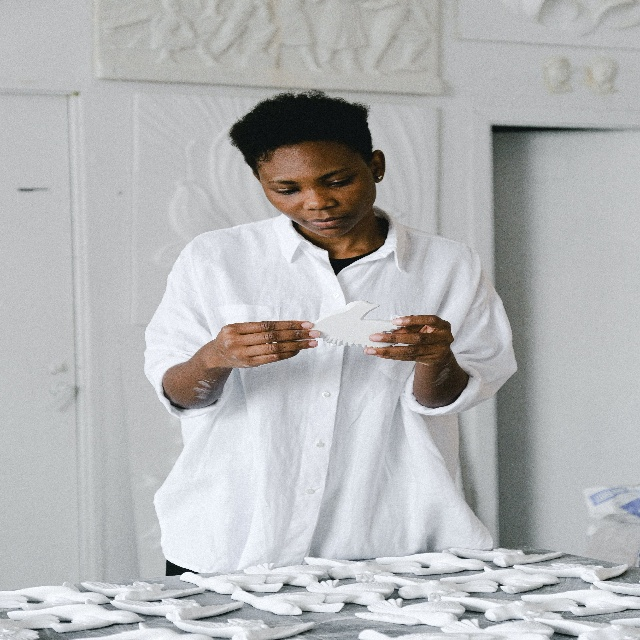Sin_guantes: (217, 315, 322, 371), (363, 312, 454, 368)
